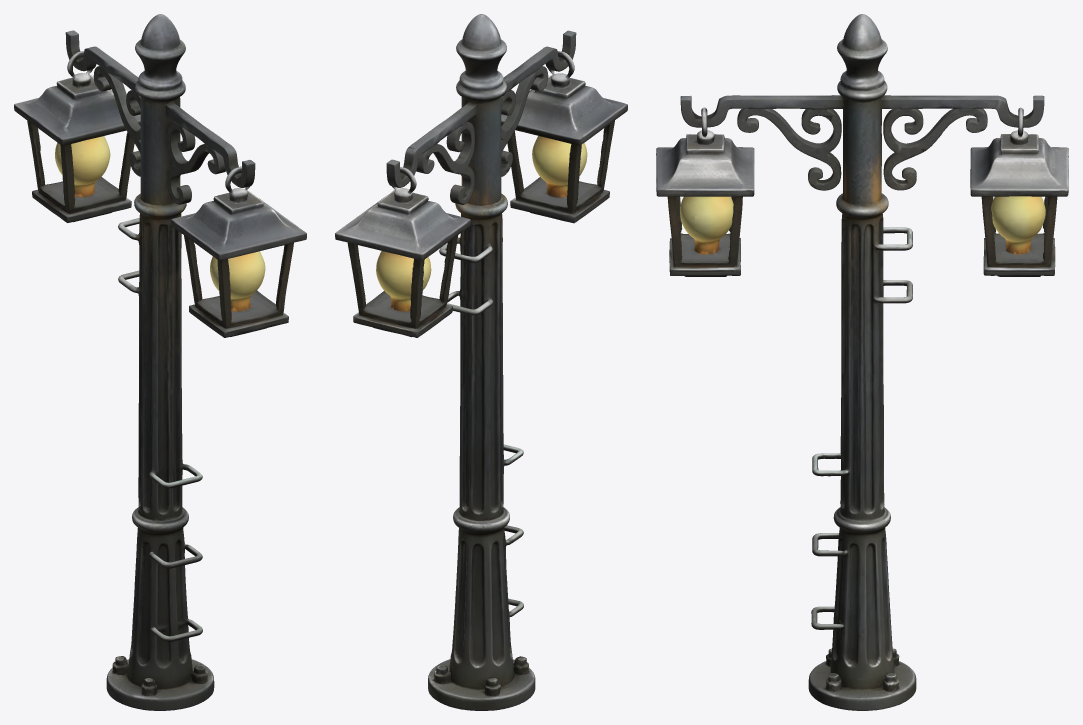
Rendered from poste.glb.
The picture shows the model from 3 angles, left to right: view 1: azimuth 30°, elevation 25°; view 2: azimuth 150°, elevation 25°; view 3: azimuth 270°, elevation 25°; orthographic projection.
Parts seen in each view (by area): view 1: poste; view 2: poste; view 3: poste.
Boxes of the visible parts, left/top/right/bottom form: poste: left=14, top=14, right=306, bottom=710; poste: left=335, top=14, right=627, bottom=710; poste: left=656, top=14, right=1068, bottom=710.
Bounding box in the file's own units: 0.6507 × 4.5 × 2.5.
Materials: 1 (1 with a texture image).
